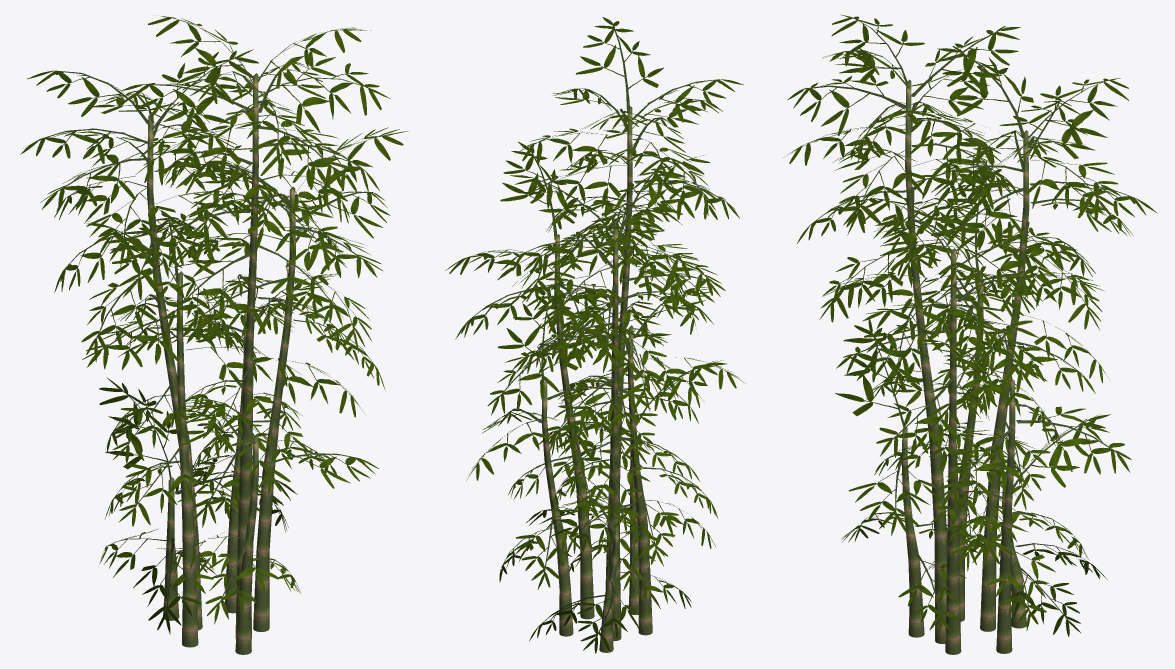
The model's file is bamboo.glb.
3 views of the same model, side by side, from view 1: azimuth 30°, elevation 25°; view 2: azimuth 150°, elevation 25°; view 3: azimuth 270°, elevation 25° (orthographic). The views are drawn at different scales.
Parts seen in each view (by area): view 1: Tree_1, Tree_0; view 2: Tree_1, Tree_0; view 3: Tree_1, Tree_0.
Part boxes in pixels (left/top/right/bottom): Tree_1: left=20, top=15, right=408, bottom=634; Tree_0: left=147, top=73, right=295, bottom=654; Tree_1: left=445, top=17, right=745, bottom=653; Tree_0: left=541, top=106, right=652, bottom=652; Tree_1: left=783, top=14, right=1157, bottom=637; Tree_0: left=901, top=79, right=1029, bottom=654.
Bounding box in the file's own units: 2.45 × 4.4 × 2.49.
Materials: 2 (2 with a texture image).
